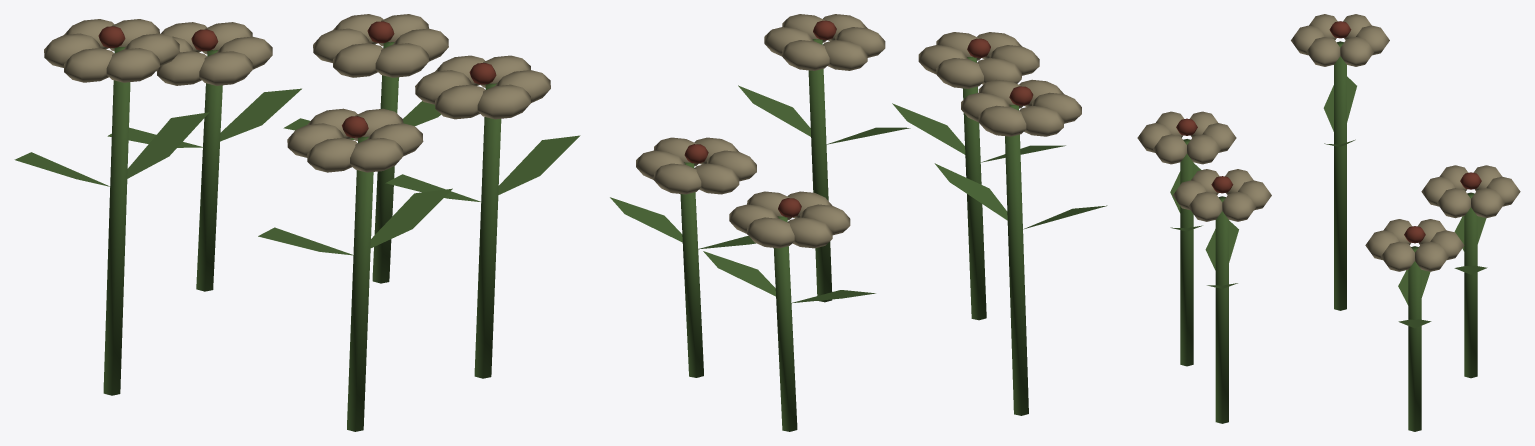
File: flowers.glb
3 views of the same model, side by side, from view 1: azimuth 30°, elevation 25°; view 2: azimuth 150°, elevation 25°; view 3: azimuth 270°, elevation 25° (orthographic). The views are drawn at different scales.
Parts seen in each view (by area): view 1: MV_flowers; view 2: MV_flowers; view 3: MV_flowers.
Boxes of the visible parts, x1,y1,x2,y2 form: MV_flowers: (14, 14, 580, 431); MV_flowers: (610, 14, 1107, 431); MV_flowers: (1137, 14, 1520, 431).
Size of the model in its own units: 0.617 by 0.42 by 0.5108.
